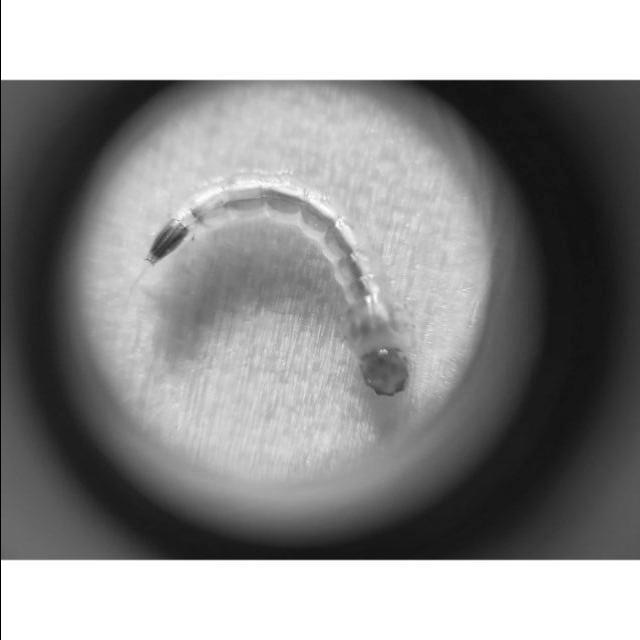larvas: (156, 178, 406, 394)
